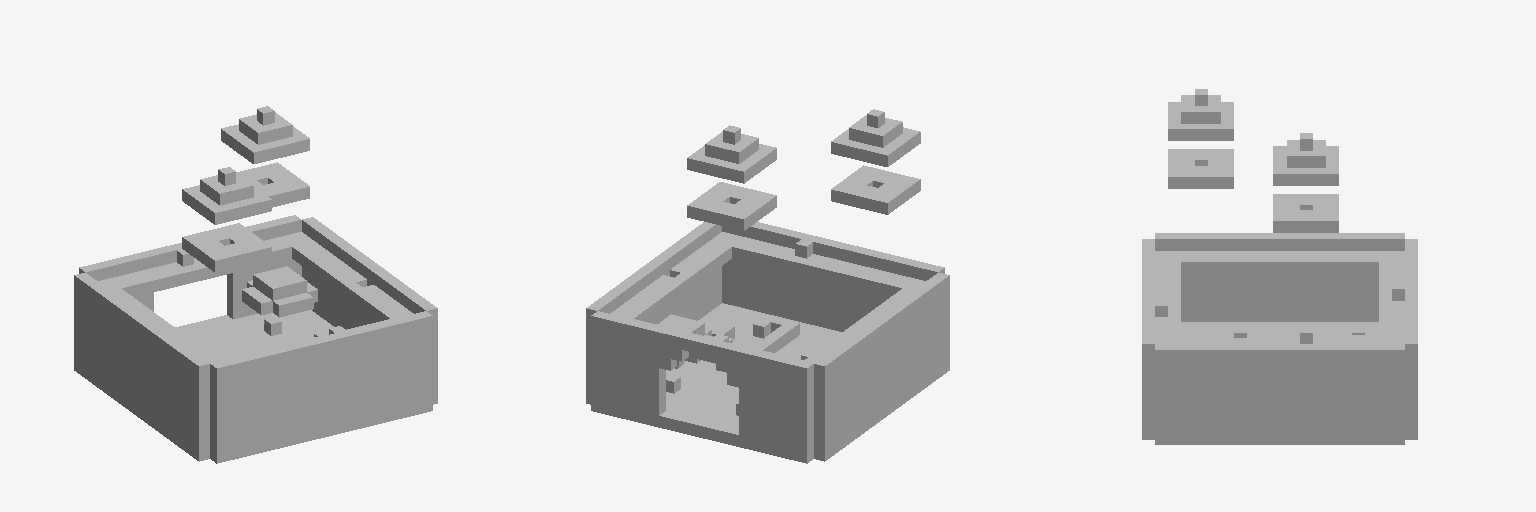
File: mesh_fort_rohan.obj
The picture shows the model from 3 angles: view 1: azimuth 30°, elevation 25°; view 2: azimuth 150°, elevation 25°; view 3: azimuth 270°, elevation 25°; orthographic projection.
Bounding box in the file's own units: 0.6562 × 0.6875 × 0.6562.